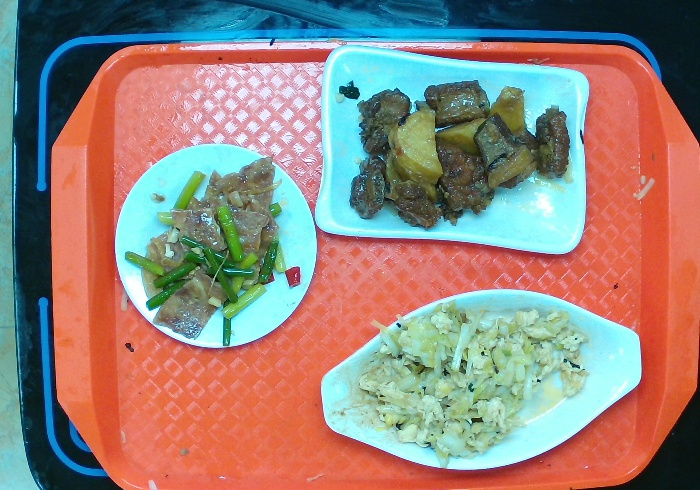RJxy-Si_Fang_Ao_Bian_Wan: (313, 43, 591, 255)
RJxy-Xiao_Yuan_Die: (113, 142, 319, 350)
RJxy-Yu_Pan: (319, 286, 643, 471)
